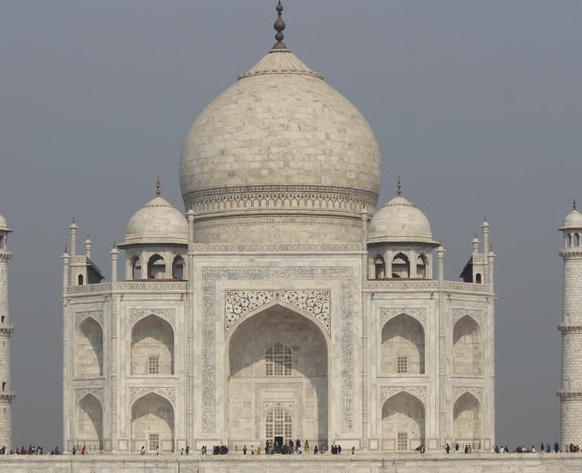Mosque: (31, 1, 501, 447)
